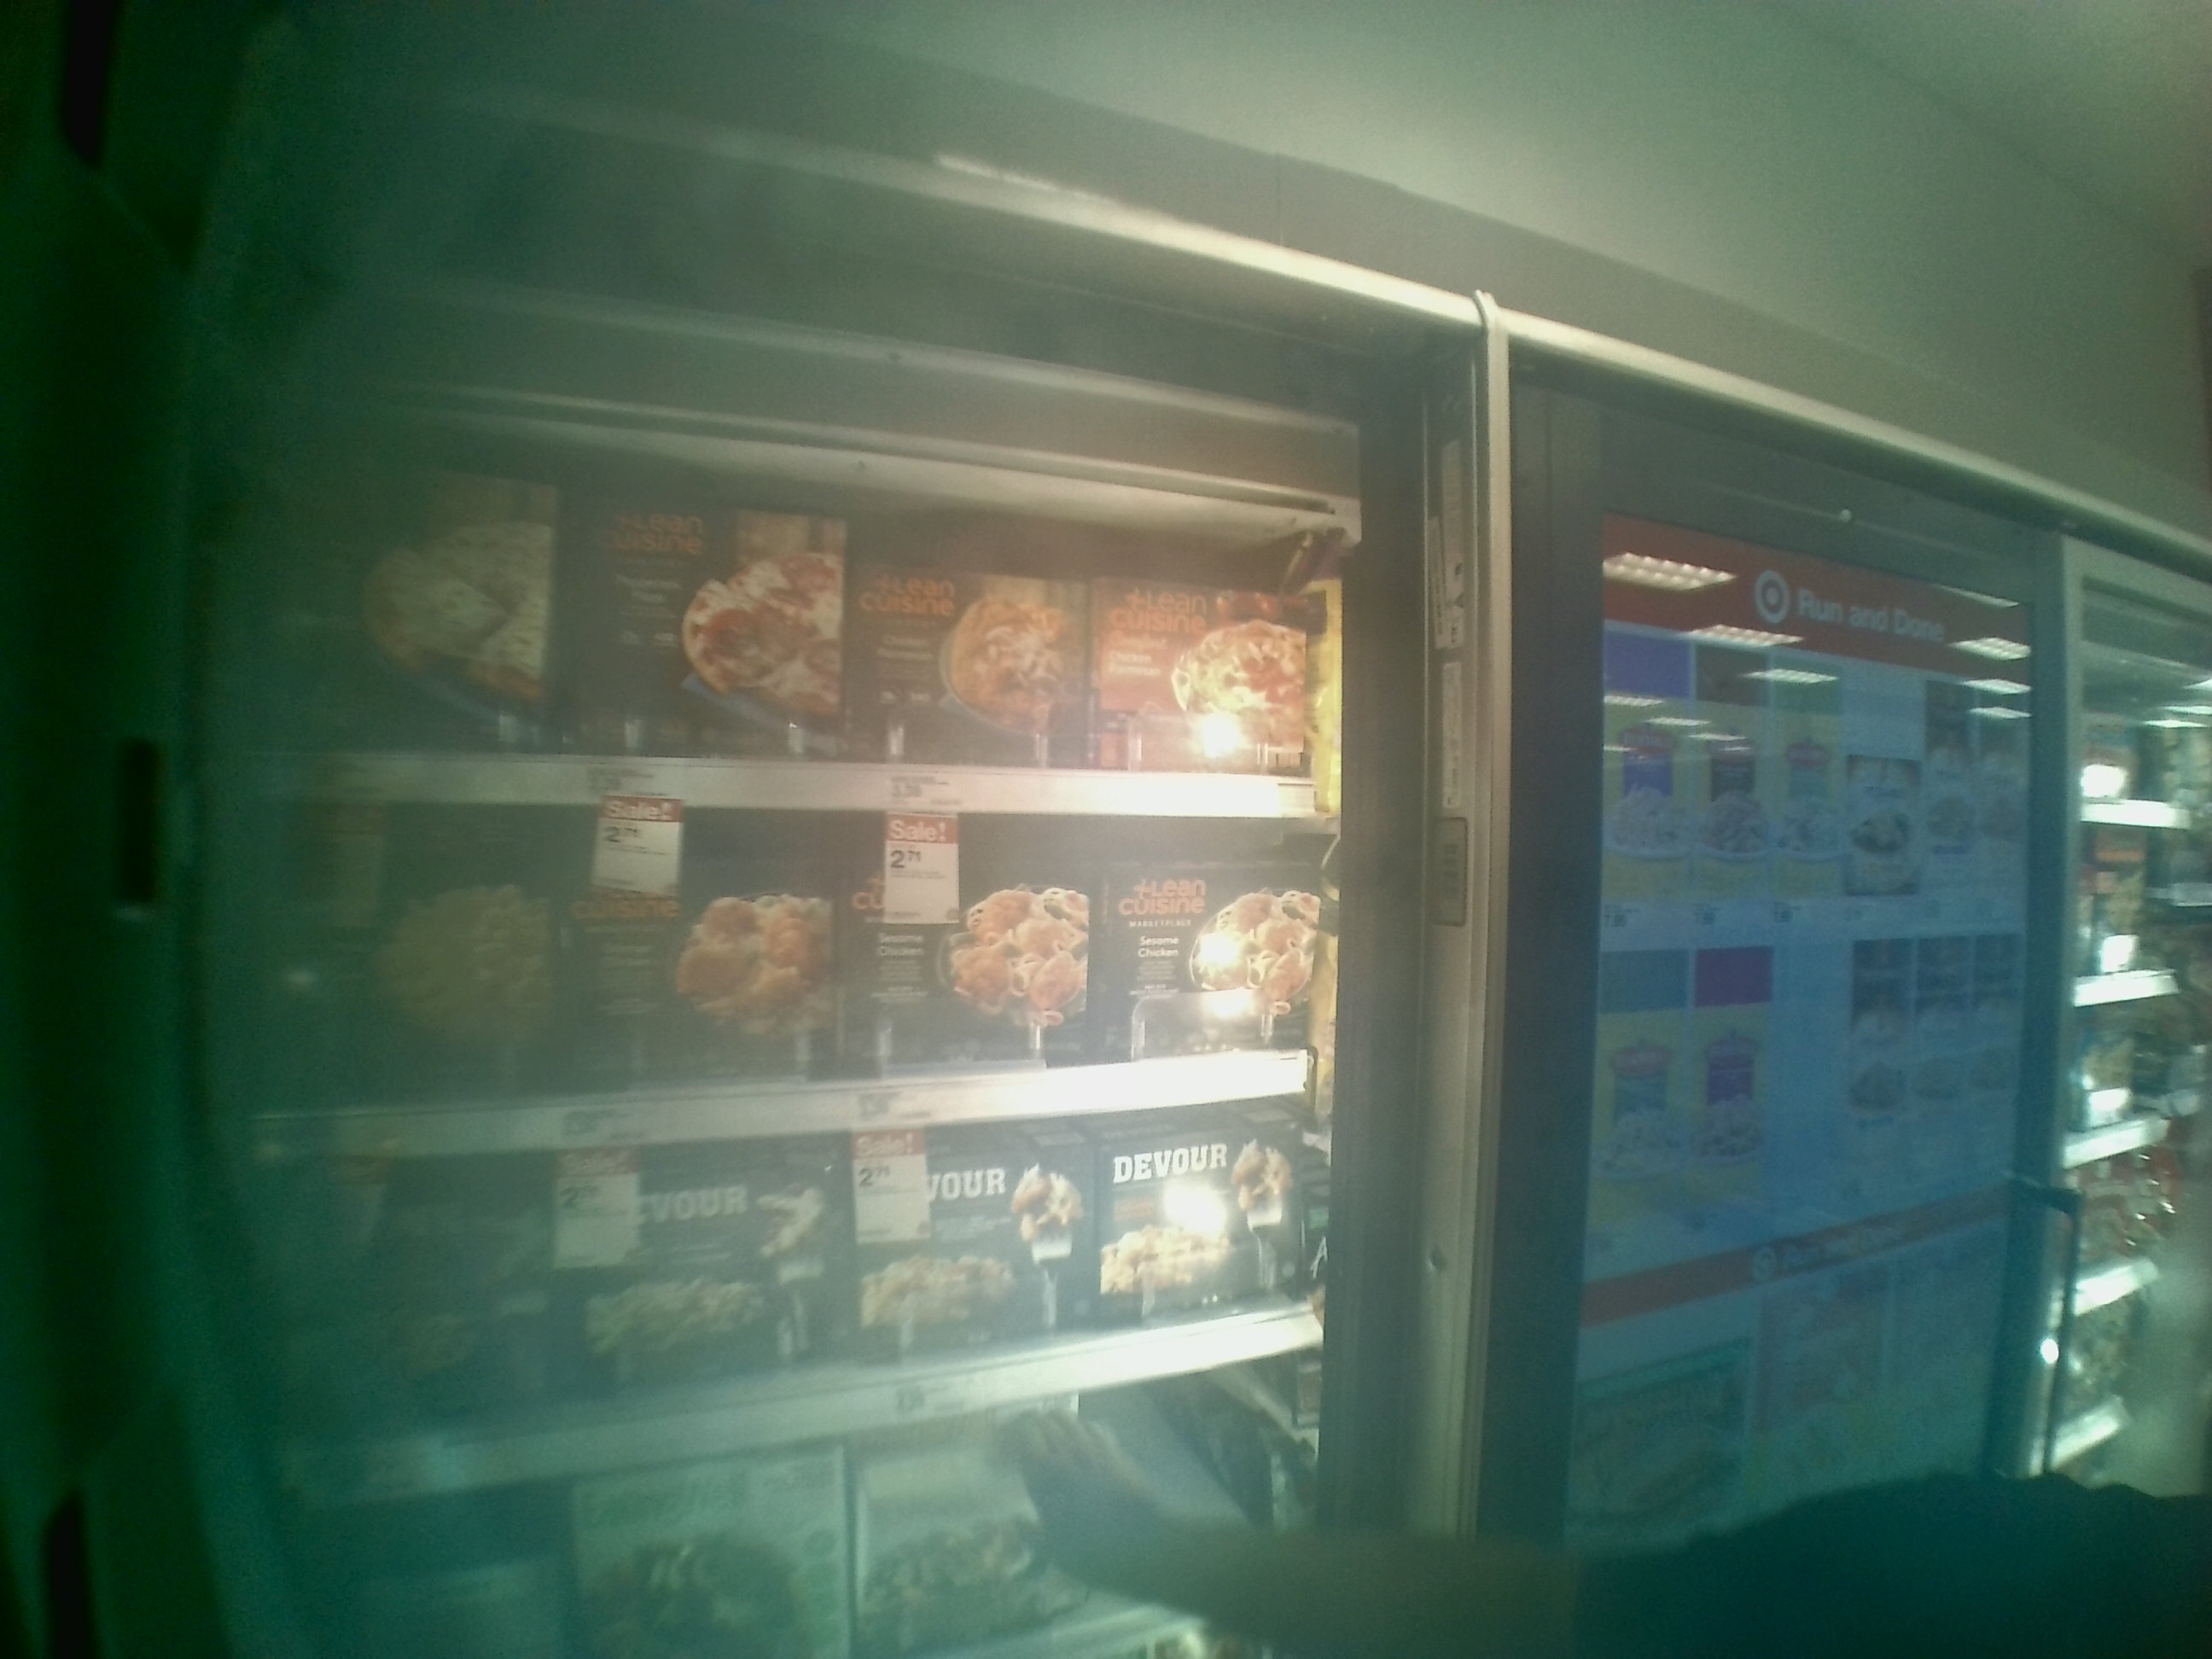shelf: (221, 368, 1322, 819), (228, 793, 1331, 1168)
